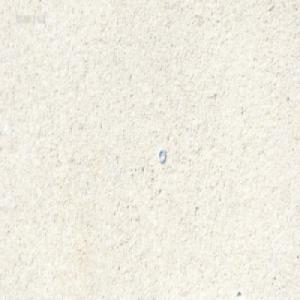Washer: (158, 148, 165, 163)
